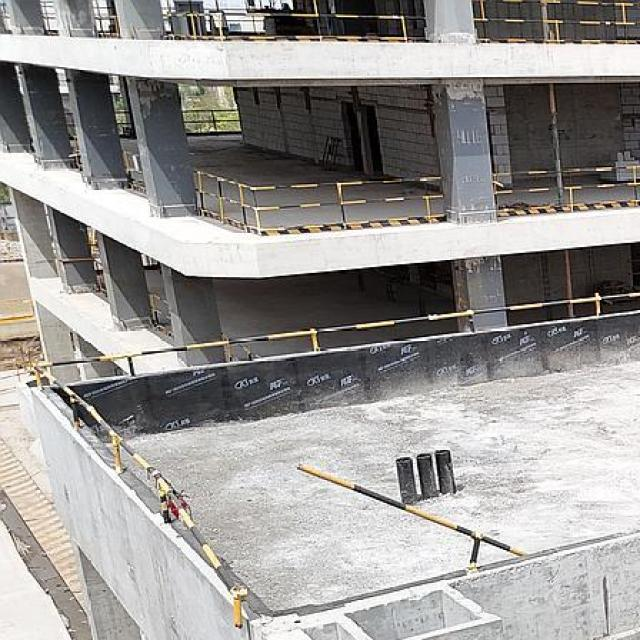Guardrail: (33, 292, 640, 627), (296, 463, 524, 571), (190, 168, 444, 228), (162, 0, 427, 39), (471, 0, 639, 41), (491, 164, 640, 204), (180, 109, 241, 132), (147, 292, 170, 325), (123, 149, 144, 182), (95, 16, 119, 38), (68, 136, 81, 166), (114, 110, 132, 124), (65, 112, 75, 127)
